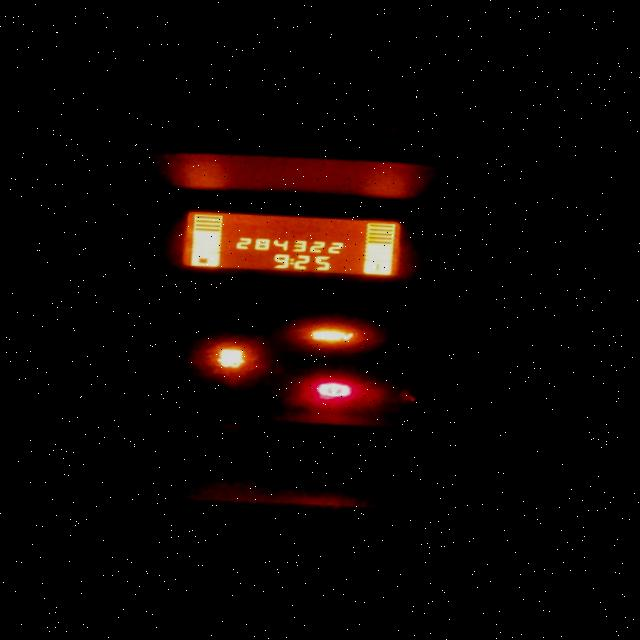odometer: (178, 208, 402, 278)
